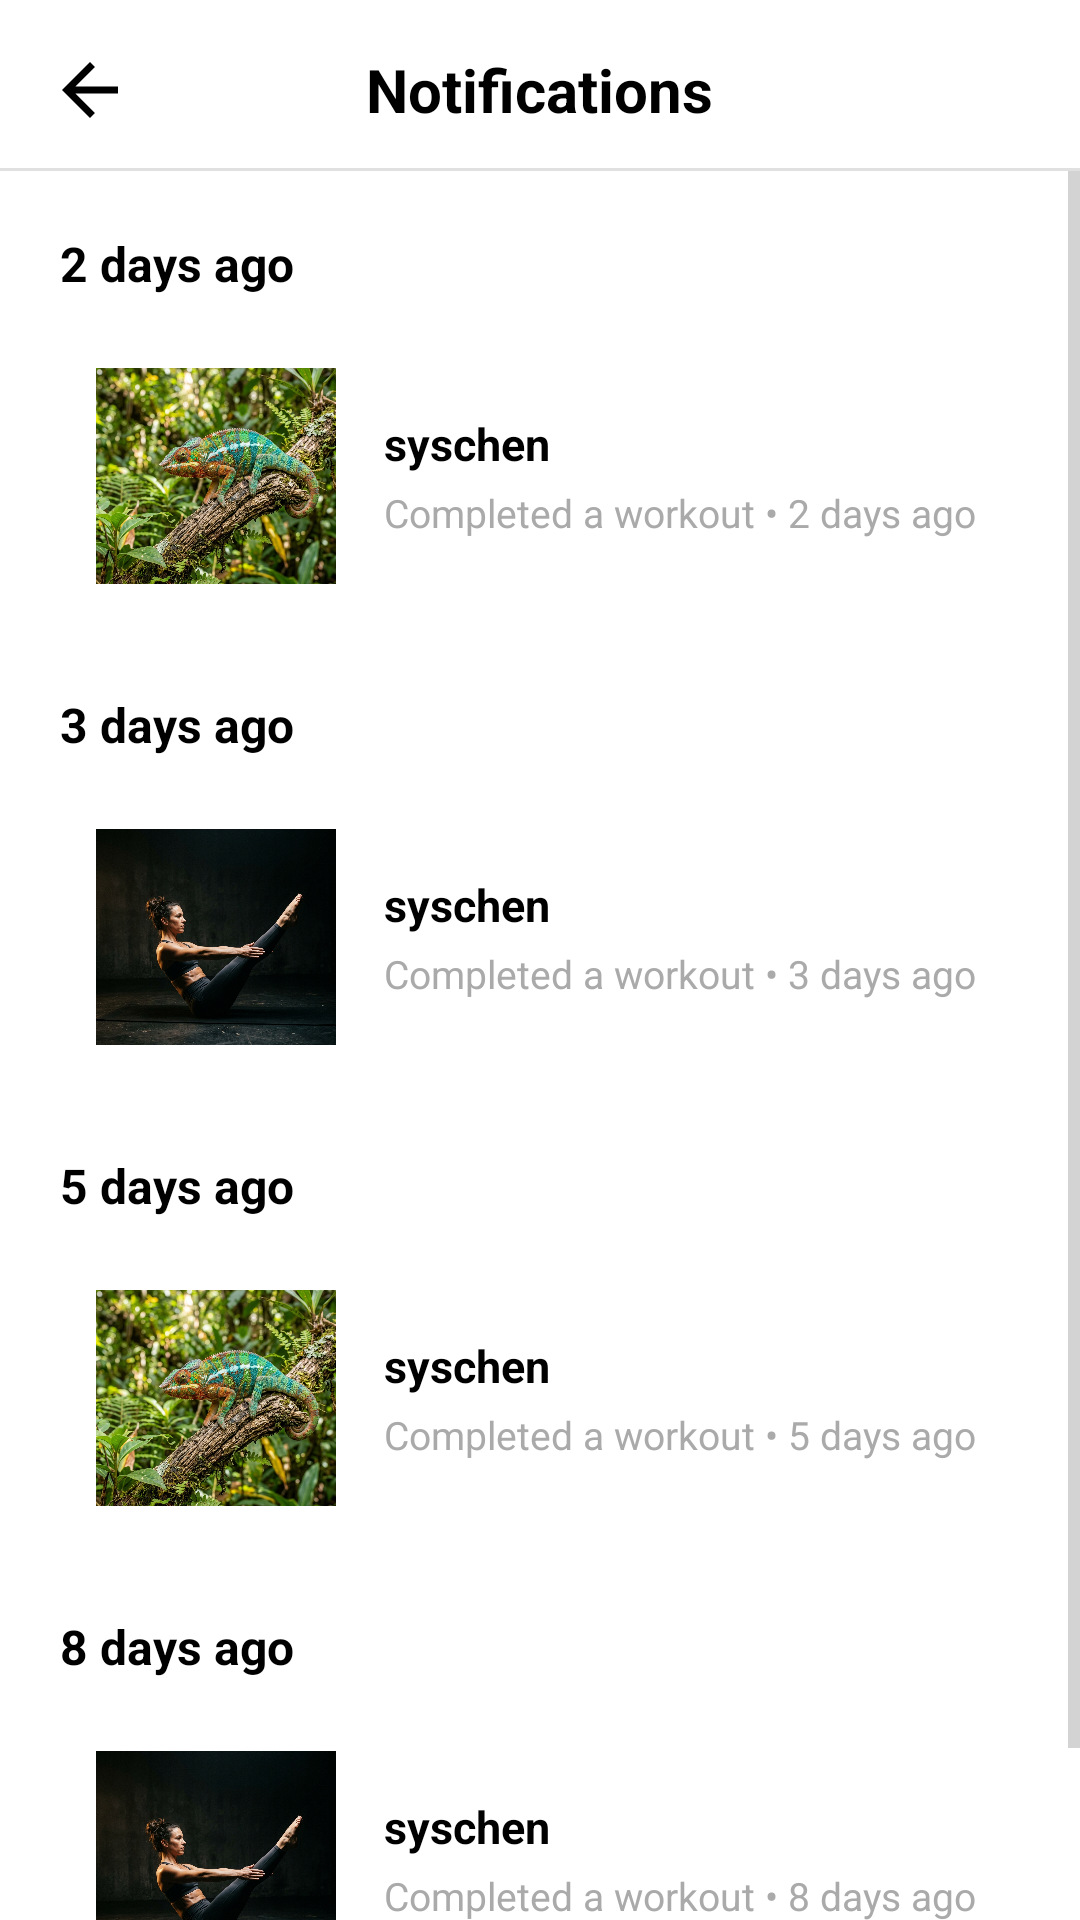

Locate icon controls on the screen. Image size 1080px x 1920px, boxes as detection(x1, y1, x2, y2).
arrow back: detection(62, 62, 118, 118)
